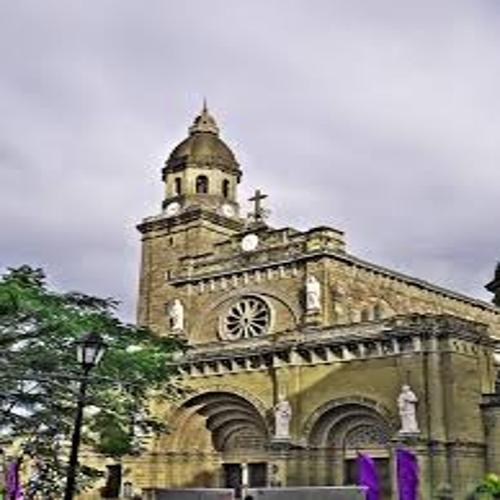Manila Cathedral Church: (16, 91, 497, 486)
